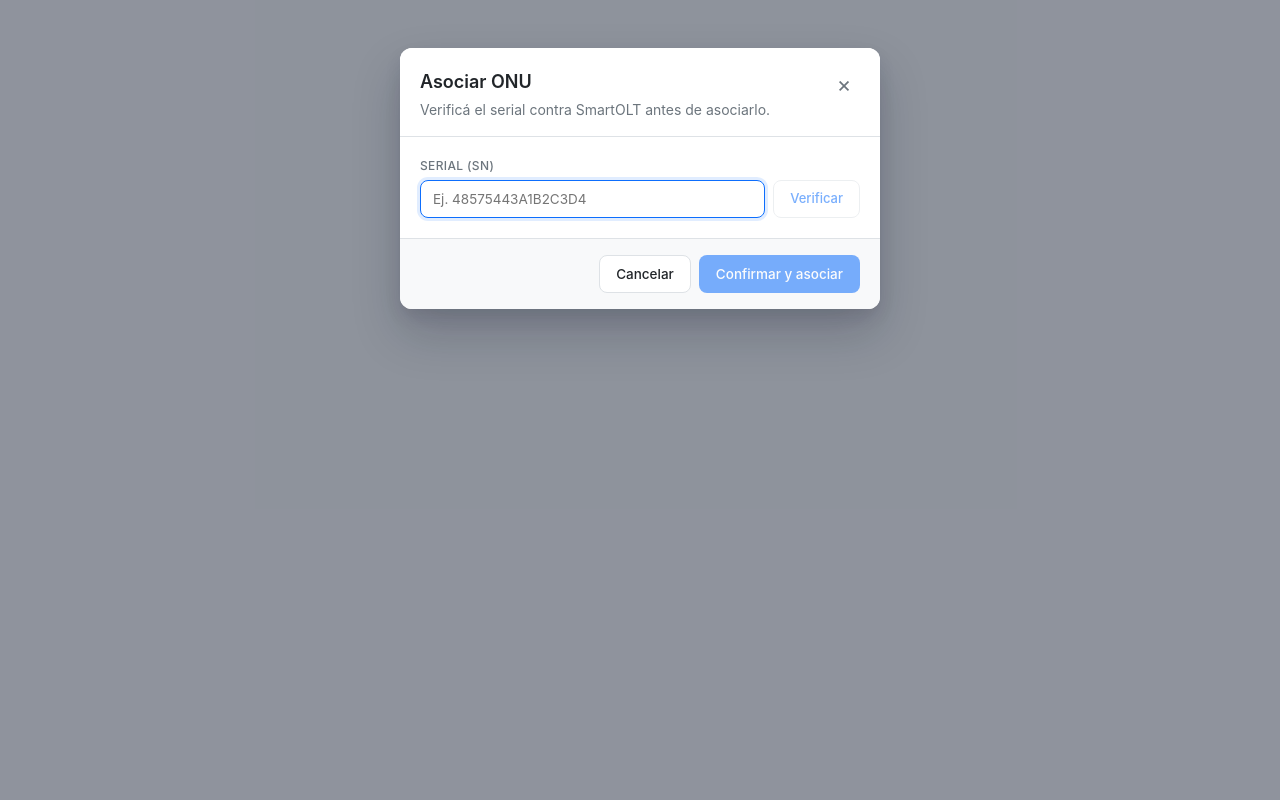
Scenario: AssociateOnuModal › POSTs {type: "ONU", serialNumber} on confirm
The width and height of the screenshot is (1280, 800).
Type "HWTC12345678" into the field labelled "Serial (SN)".
click(593, 199); type("HWTC12345678")  # box x1=420 y1=180 x2=765 y2=218
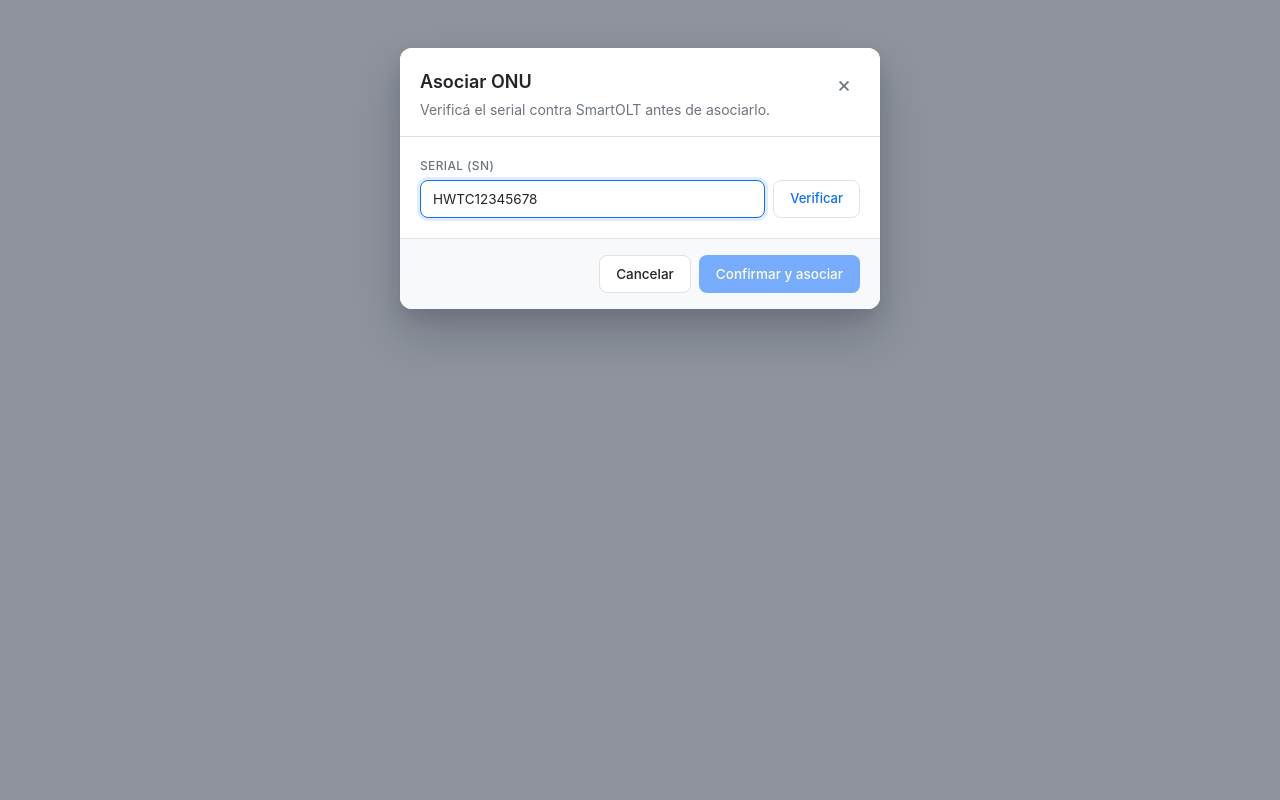
Click the button "Verificar".
click(817, 199)  # box x1=773 y1=180 x2=860 y2=218
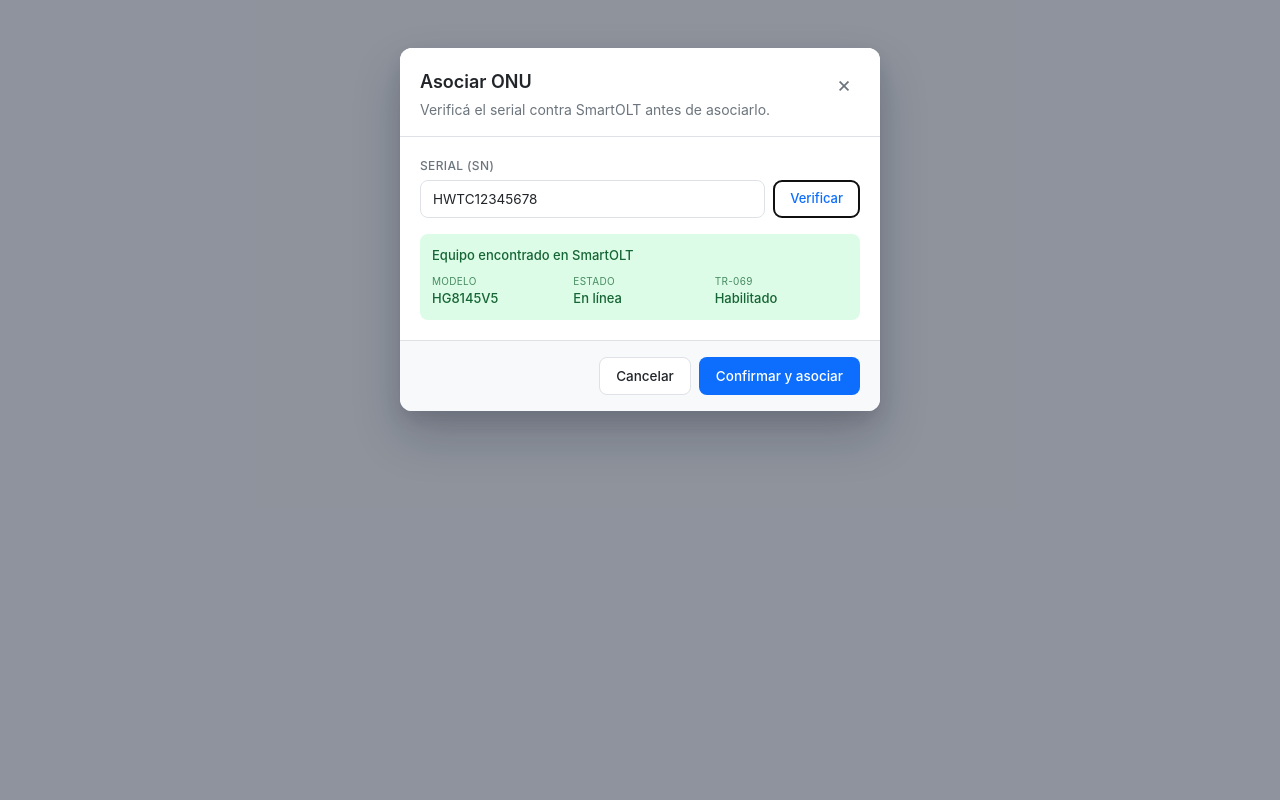
Expected: the text "HG8145V5" is shown, x1=432 y1=290 x2=498 y2=306
Click the button "Confirmar y asociar".
click(779, 376)  # box x1=699 y1=357 x2=860 y2=395
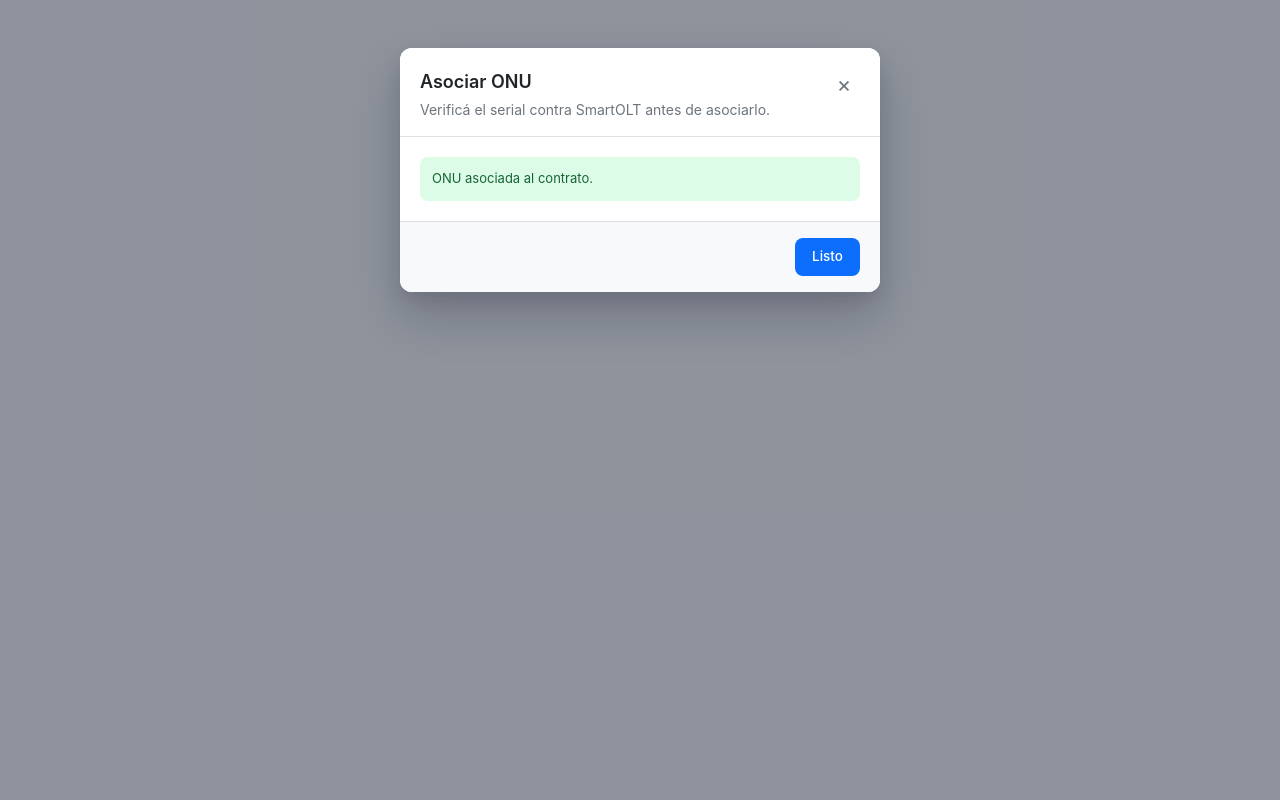
Expected: the button "Listo" is shown, x1=795 y1=238 x2=860 y2=276
